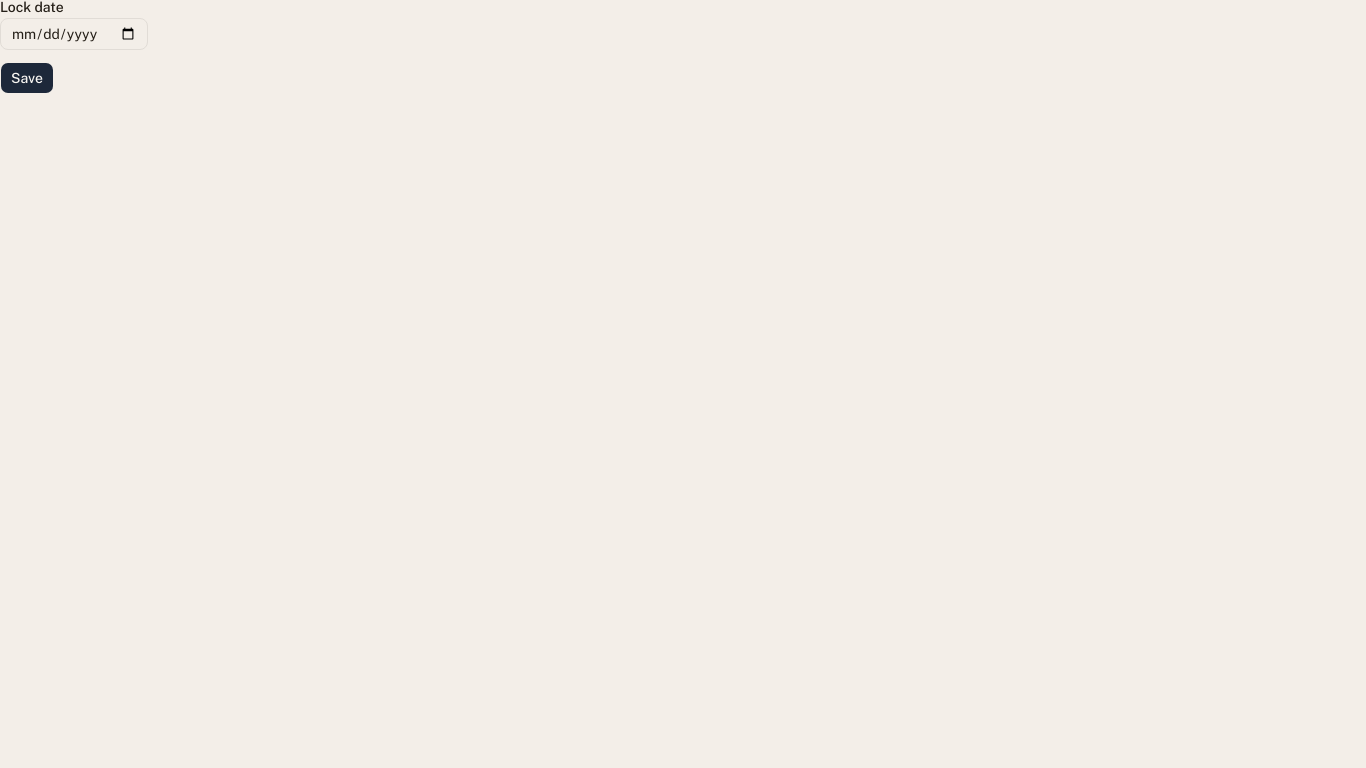
does not lock on the first click; confirm names the date; saves after confirming
This screenshot has width=1366, height=768.
Later steps or results of the test are not shown.
Type "2026-06-30" into the date field labelled "Lock date".
click(74, 34); type("2026-06-30")  # box [0,18,148,50]
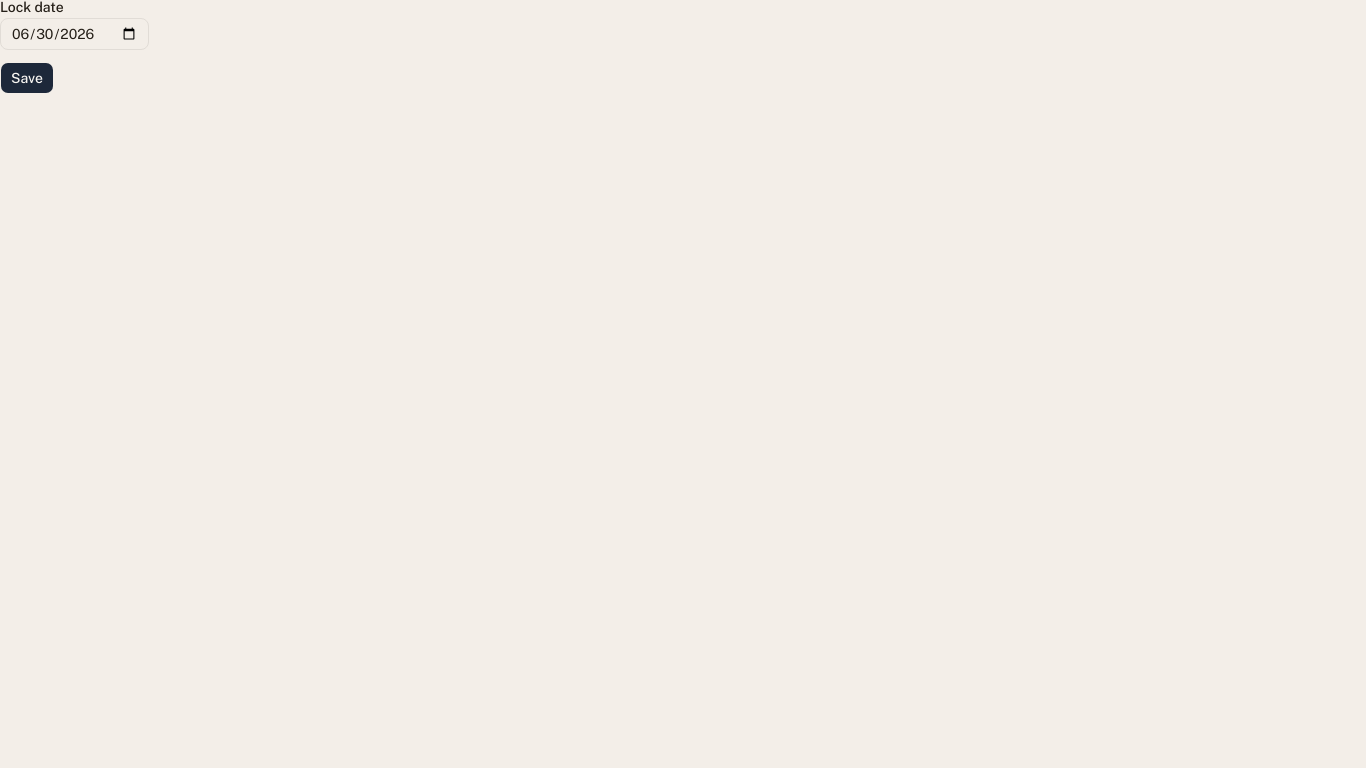
Click the button "Save".
click(27, 78)  # box [0,62,54,94]
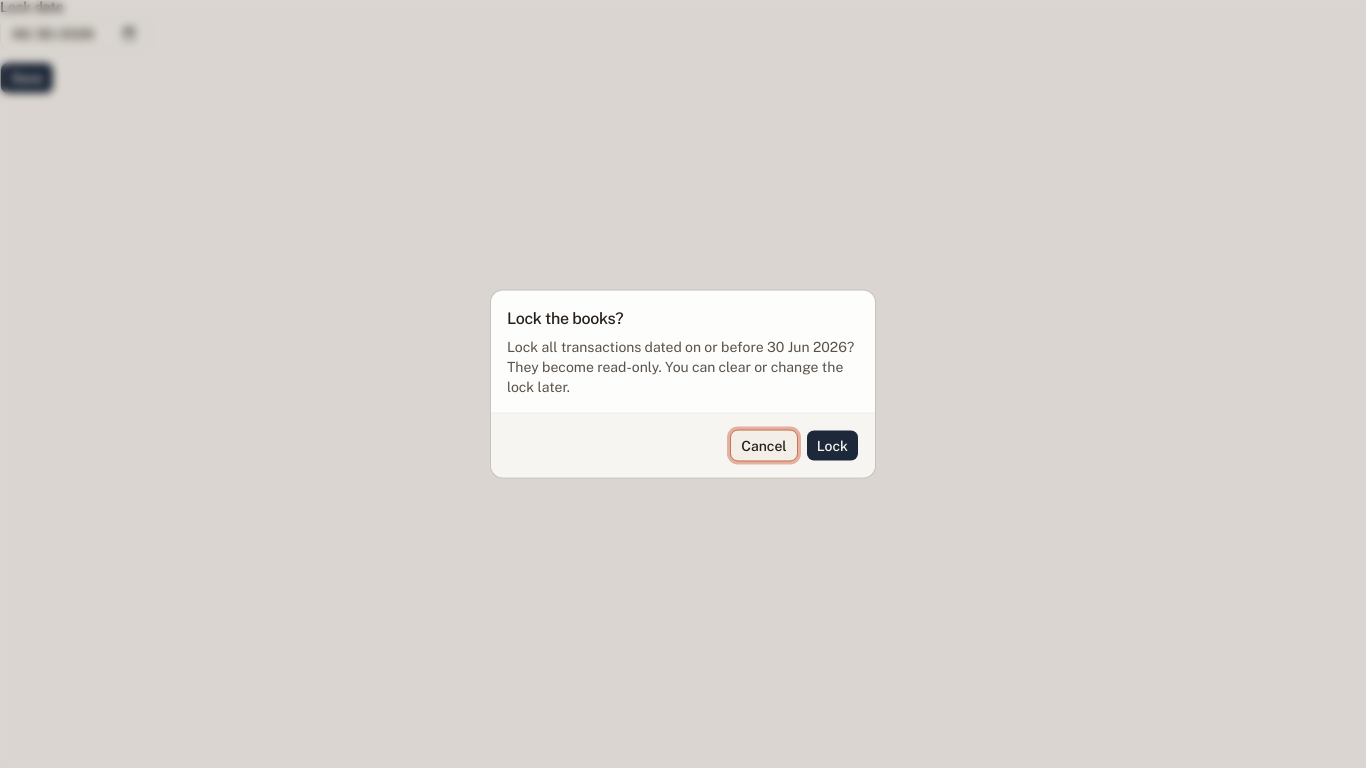
Expected: the dialog shows "30 Jun 2026", [507,338,854,394]
